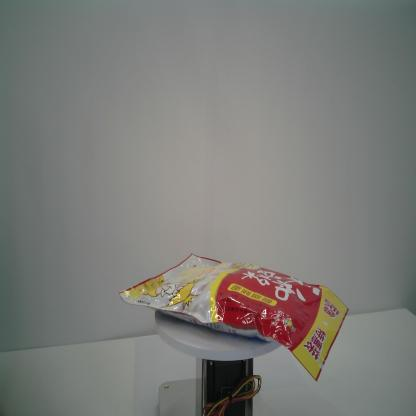Instant Drink: (118, 252, 349, 382)
